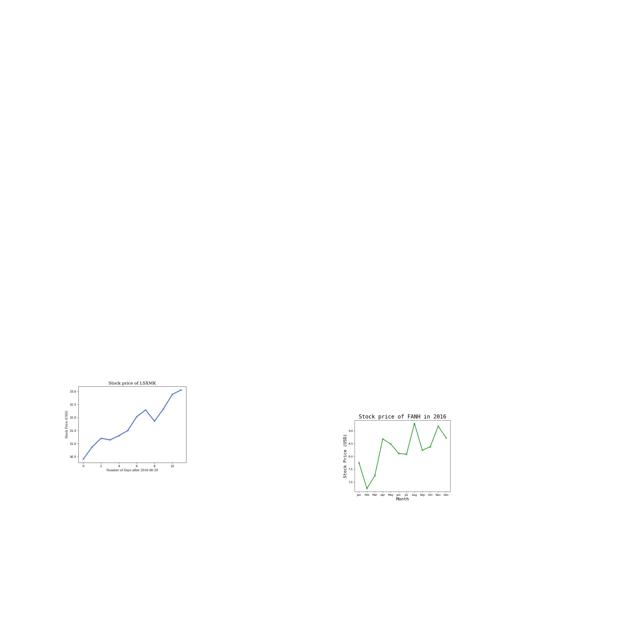Graph: (61, 372, 200, 476), (339, 409, 463, 502)
